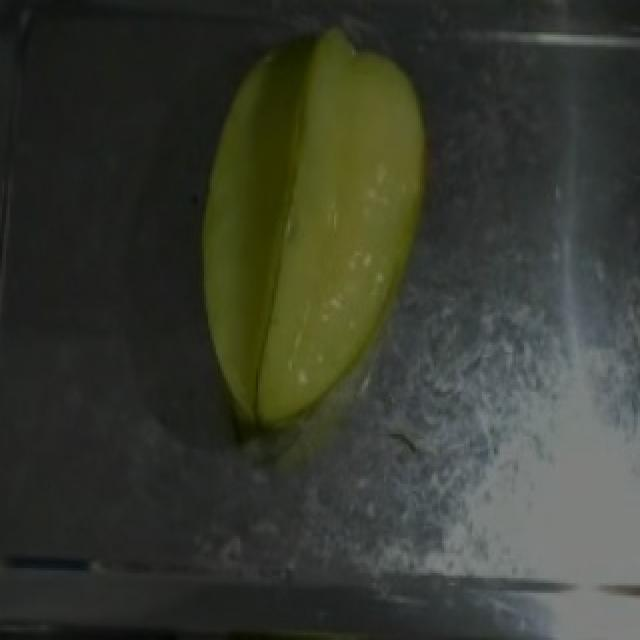fruit: (204, 10, 458, 384)
